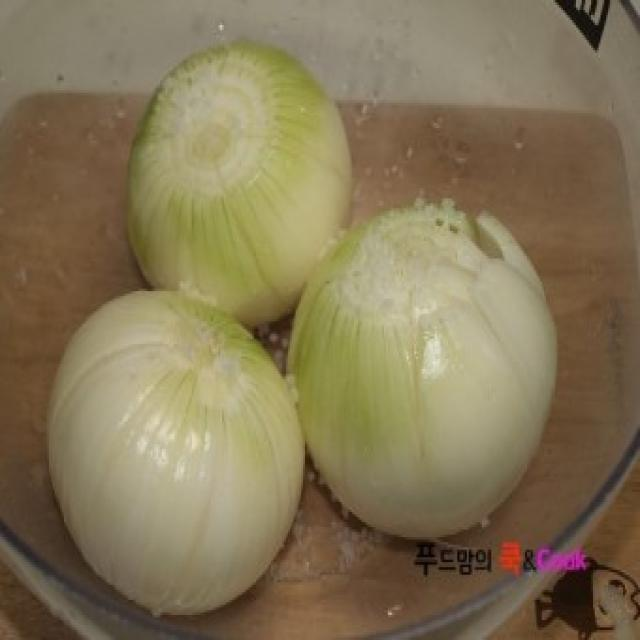onion: (40, 284, 313, 610), (297, 223, 559, 528), (119, 32, 339, 304)
